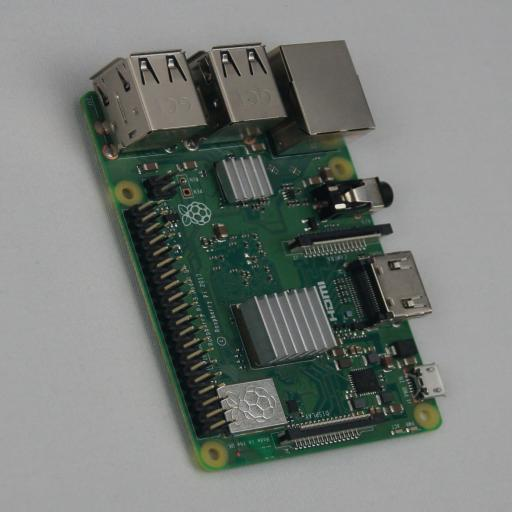Raspberry Pi 3 B-: (74, 40, 444, 472)
